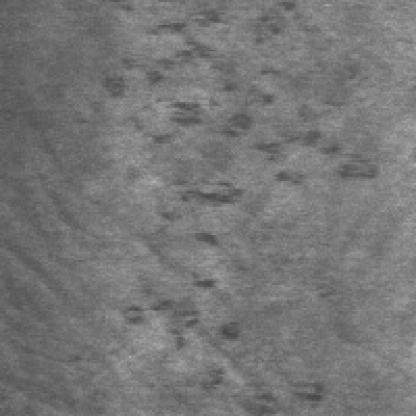rolled-in_scale: (90, 6, 380, 190), (116, 140, 252, 372)
